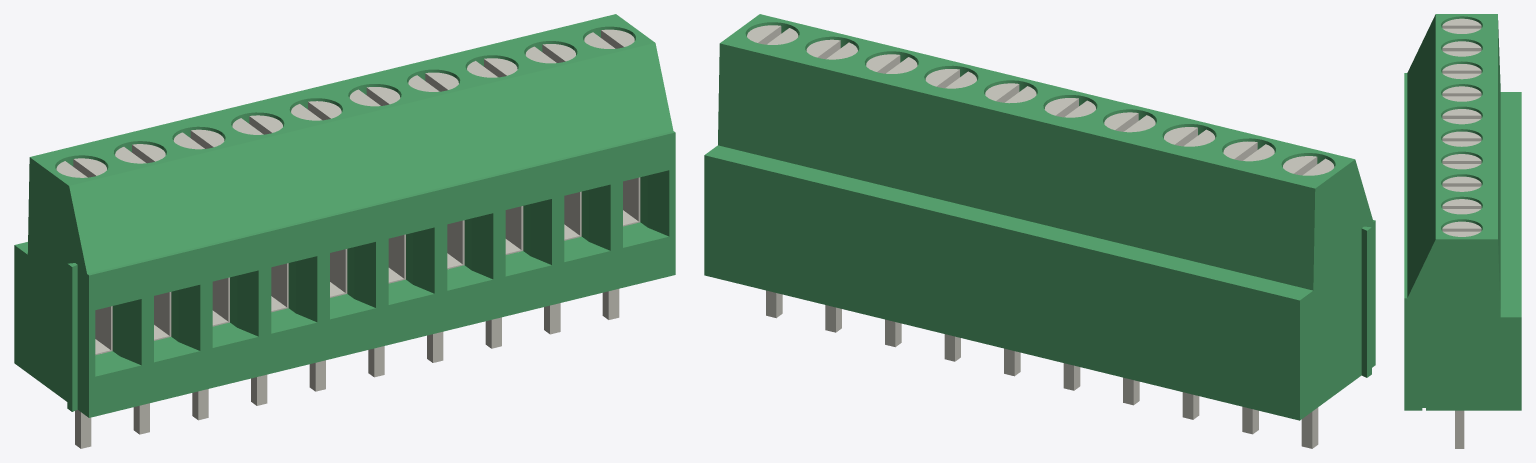
Rendered from kc-terminalblock_phoenix_mkds-3-10-5.08_1x10_p5.08mm_horizontal.glb.
3 views of the same model, side by side, from view 1: azimuth 30°, elevation 25°; view 2: azimuth 150°, elevation 25°; view 3: azimuth 270°, elevation 25° (orthographic). The views are drawn at different scales.
Visible parts, largest first — view 1: 0.08333333333333333_0.4166666666666667_0.16666666666666666_0, 0.6666666666666666_0.6666666666666666_0.5833333333333334_0.8; view 2: 0.08333333333333333_0.4166666666666667_0.16666666666666666_0, 0.6666666666666666_0.6666666666666666_0.5833333333333334_0.8; view 3: 0.08333333333333333_0.4166666666666667_0.16666666666666666_0, 0.6666666666666666_0.6666666666666666_0.5833333333333334_0.8.
Boxes of the visible parts, x1=… form: 0.08333333333333333_0.4166666666666667_0.16666666666666666_0: x1=14, y1=14, x2=675, y2=417; 0.6666666666666666_0.6666666666666666_0.5833333333333334_0.8: x1=56, y1=29, x2=640, y2=448; 0.08333333333333333_0.4166666666666667_0.16666666666666666_0: x1=704, y1=14, x2=1375, y2=420; 0.6666666666666666_0.6666666666666666_0.5833333333333334_0.8: x1=747, y1=25, x2=1334, y2=448; 0.08333333333333333_0.4166666666666667_0.16666666666666666_0: x1=1404, y1=14, x2=1521, y2=410; 0.6666666666666666_0.6666666666666666_0.5833333333333334_0.8: x1=1442, y1=18, x2=1481, y2=448.
Bounding box in the file's own units: 5.14 × 2.3 × 1.12.
